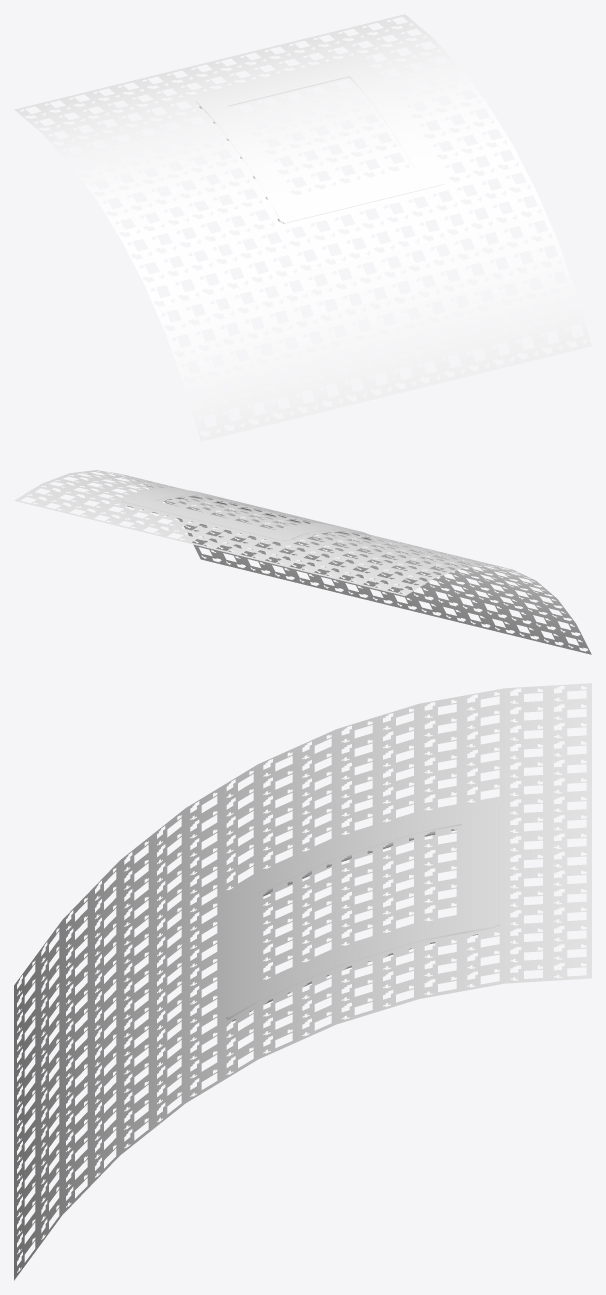
The model's file is grd_F_F_0.dae.
3 renders of one model, top to bottom at view 1: azimuth 30°, elevation 25°; view 2: azimuth 150°, elevation 25°; view 3: azimuth 270°, elevation 25°, orthographic. The views are drawn at different scales.
Parts seen in each view (by area): view 1: grass_1_0, bricks0_0_0; view 2: grass_1_0, bricks0_0_0; view 3: grass_1_0, bricks0_0_0.
Part boxes in pixels (x1,y1,x2,y2): grass_1_0: (14, 14, 591, 441); bricks0_0_0: (195, 58, 445, 223); grass_1_0: (14, 470, 591, 654); bricks0_0_0: (122, 488, 371, 543); grass_1_0: (14, 683, 591, 1280); bricks0_0_0: (225, 801, 499, 1021).
Size of the model in its own units: 512 by 244 by 423.
2 materials, 1 textured.
